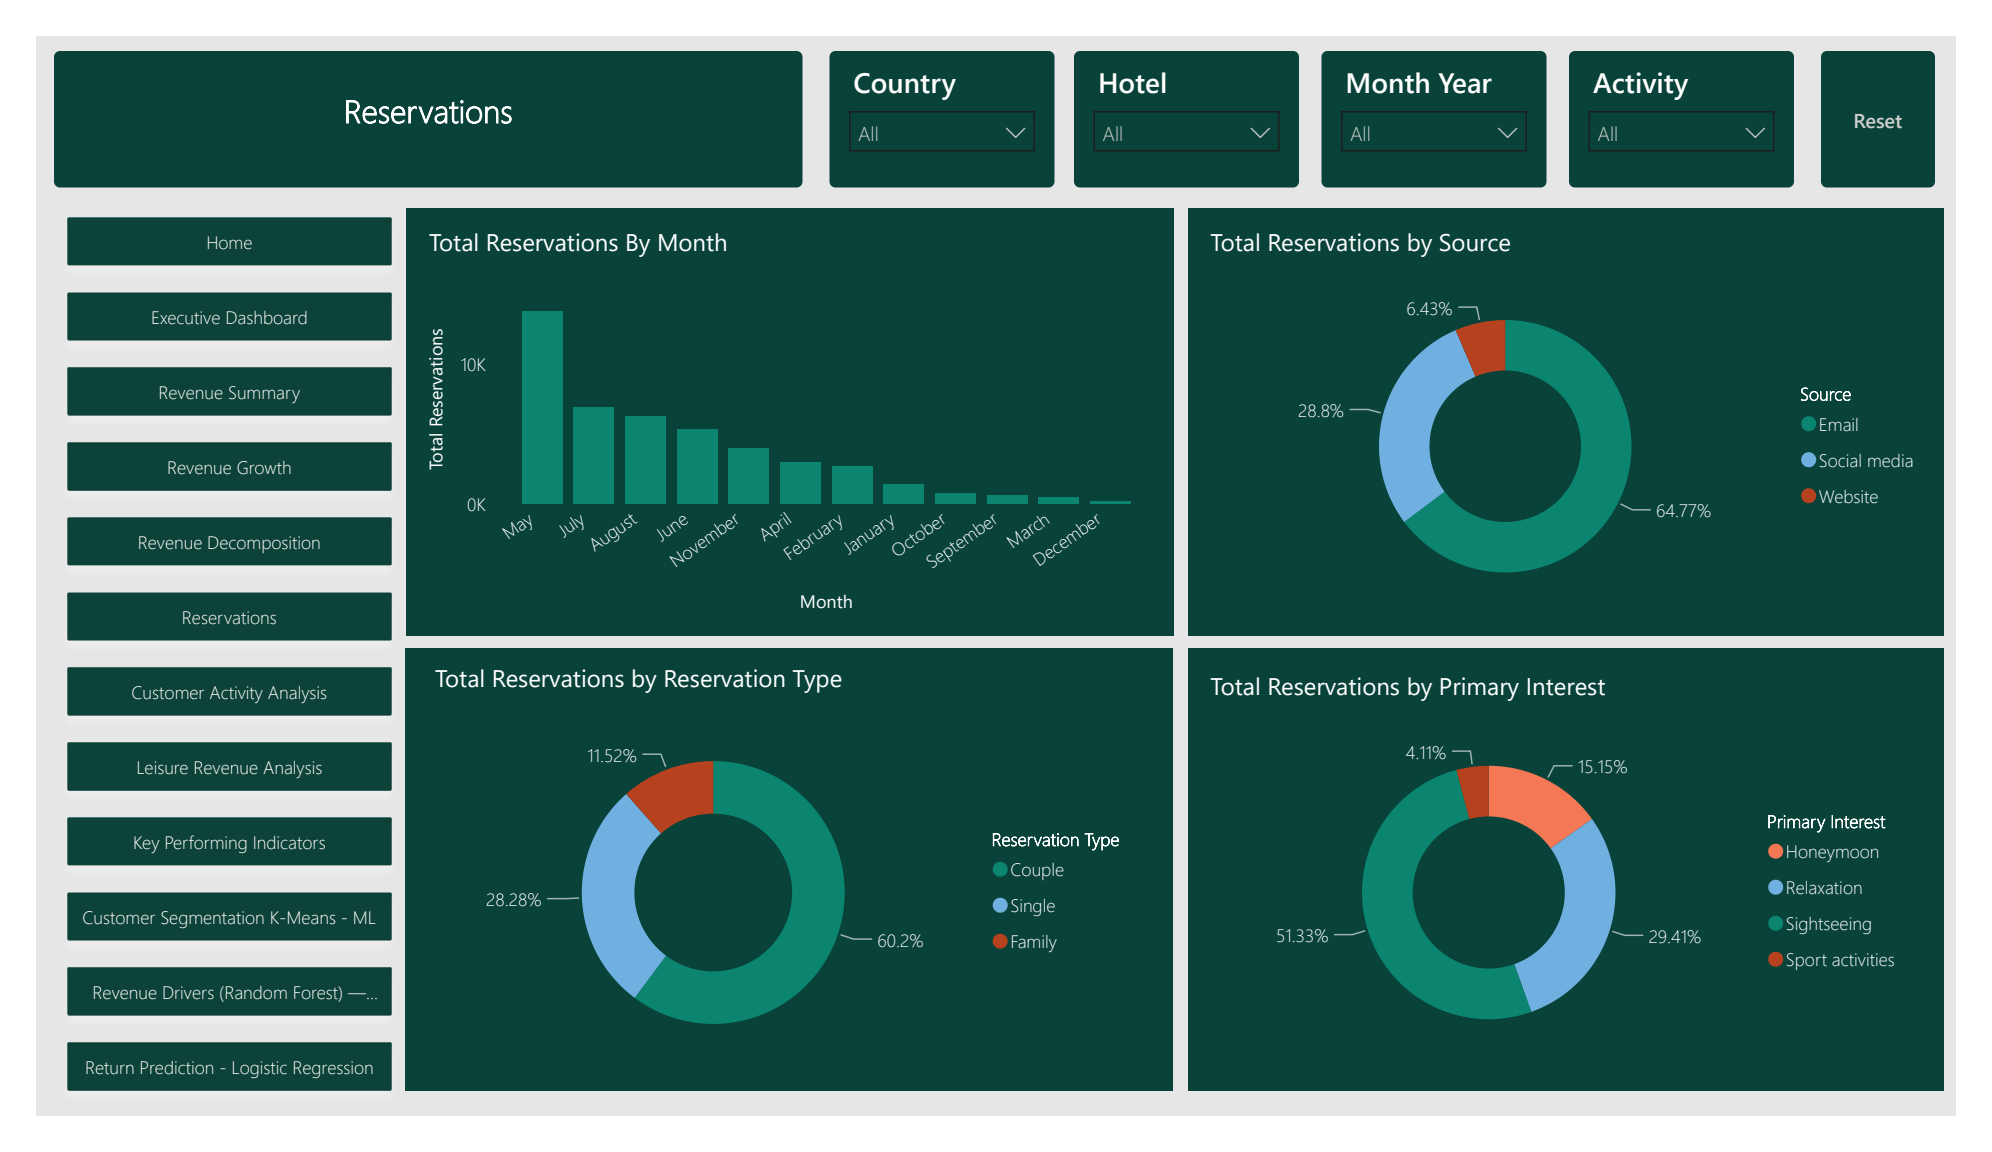

What the dashboard file says about the page in this screenshot:
{"tool":"powerbi","page":{"name":"Reservations","canvas":[1280,720],"ordinal":5},"visuals":[{"type":"shape","box":[246.9,114.9,511.7,284.6],"z":0},{"type":"textbox","box":[11.7,9.9,499.2,90.7],"z":1000},{"type":"slicer","fields":{"Values":["Country.Country"]},"box":[528.8,9.9,150,90.7],"z":2000},{"type":"pageNavigator","box":[11.7,112.2,234.3,607.8],"z":3000},{"type":"slicer","fields":{"Values":["Hotel Visited.Hotel"]},"box":[692.2,9.9,150,90.7],"z":4000},{"type":"slicer","fields":{"Values":["Calender.MonthYear"]},"box":[857.4,9.9,150,90.7],"z":5000},{"type":"slicer","fields":{"Values":["Primary interest.Primary Interest"]},"box":[1021.6,9.9,150,90.7],"z":6000},{"type":"actionButton","box":[1189.5,9.9,76.3,90.7],"z":7000},{"type":"shape","box":[767.6,407.6,504.5,295.4],"z":8000},{"type":"shape","box":[246,407.6,511.7,295.4],"z":9000},{"type":"shape","box":[767.6,114.9,504.5,284.6],"z":10000},{"type":"columnChart","title":"Total Reservations By Month","fields":{"Category":["Calender.Month Full"],"Y":["Calculations.Total Customers"]},"box":[256.8,125.7,492,263],"z":11000},{"type":"donutChart","title":"Total Reservations by Source","fields":{"Category":["Source.Source"],"Y":["Calculations.Total Customers"]},"box":[778.4,125.7,487.5,263],"z":12000},{"type":"donutChart","title":"Total Reservations by Reservation Type","fields":{"Category":["Reservation type.Reservation Type"],"Y":["Calculations.Total Customers"]},"box":[261.2,416.6,487.5,276.5],"z":13000},{"type":"donutChart","title":"Total Reservations by Primary Interest","fields":{"Series":["Primary interest.Primary Interest"],"Y":["Calculations.Total Customers"]},"box":[778.4,421.9,481.2,265.7],"z":14000}]}

Visuals, with their boxes in screenshot pixels (x1, y1, x2, y2), scaled from the page's 1280x720 canvas onto the 1992x1152 screenshot:
shape: {"x1": 384, "y1": 184, "x2": 1181, "y2": 639}
textbox: {"x1": 18, "y1": 16, "x2": 795, "y2": 161}
slicer - Country.Country: {"x1": 823, "y1": 16, "x2": 1056, "y2": 161}
pageNavigator: {"x1": 18, "y1": 180, "x2": 383, "y2": 1151}
slicer - Hotel Visited.Hotel: {"x1": 1077, "y1": 16, "x2": 1311, "y2": 161}
slicer - Calender.MonthYear: {"x1": 1334, "y1": 16, "x2": 1568, "y2": 161}
slicer - Primary interest.Primary Interest: {"x1": 1590, "y1": 16, "x2": 1823, "y2": 161}
actionButton: {"x1": 1851, "y1": 16, "x2": 1970, "y2": 161}
shape: {"x1": 1195, "y1": 652, "x2": 1980, "y2": 1125}
shape: {"x1": 383, "y1": 652, "x2": 1179, "y2": 1125}
shape: {"x1": 1195, "y1": 184, "x2": 1980, "y2": 639}
"Total Reservations By Month" columnChart: {"x1": 400, "y1": 201, "x2": 1165, "y2": 622}
"Total Reservations by Source" donutChart: {"x1": 1211, "y1": 201, "x2": 1970, "y2": 622}
"Total Reservations by Reservation Type" donutChart: {"x1": 406, "y1": 667, "x2": 1165, "y2": 1109}
"Total Reservations by Primary Interest" donutChart: {"x1": 1211, "y1": 675, "x2": 1960, "y2": 1100}
